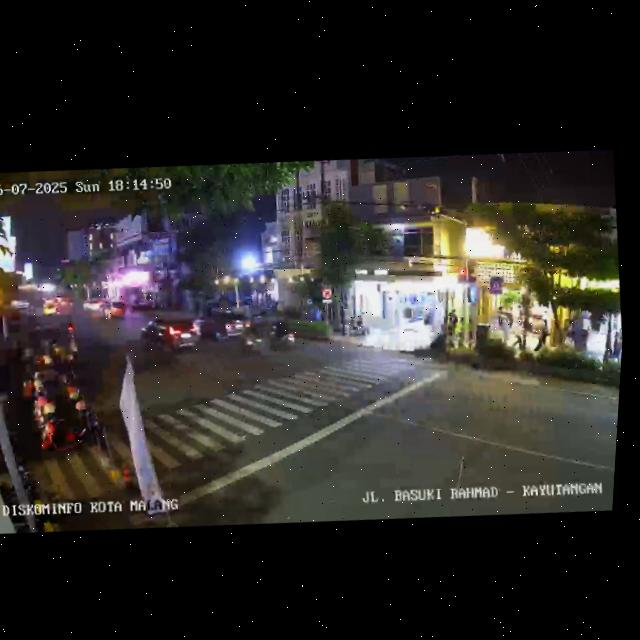car: (140, 313, 203, 360), (193, 303, 255, 347), (40, 294, 69, 319), (106, 297, 129, 321)
motorcycle: (264, 313, 300, 355)
person: (529, 317, 551, 353), (497, 314, 512, 348), (562, 324, 578, 355), (578, 323, 592, 358), (512, 323, 527, 353), (611, 331, 623, 362)
